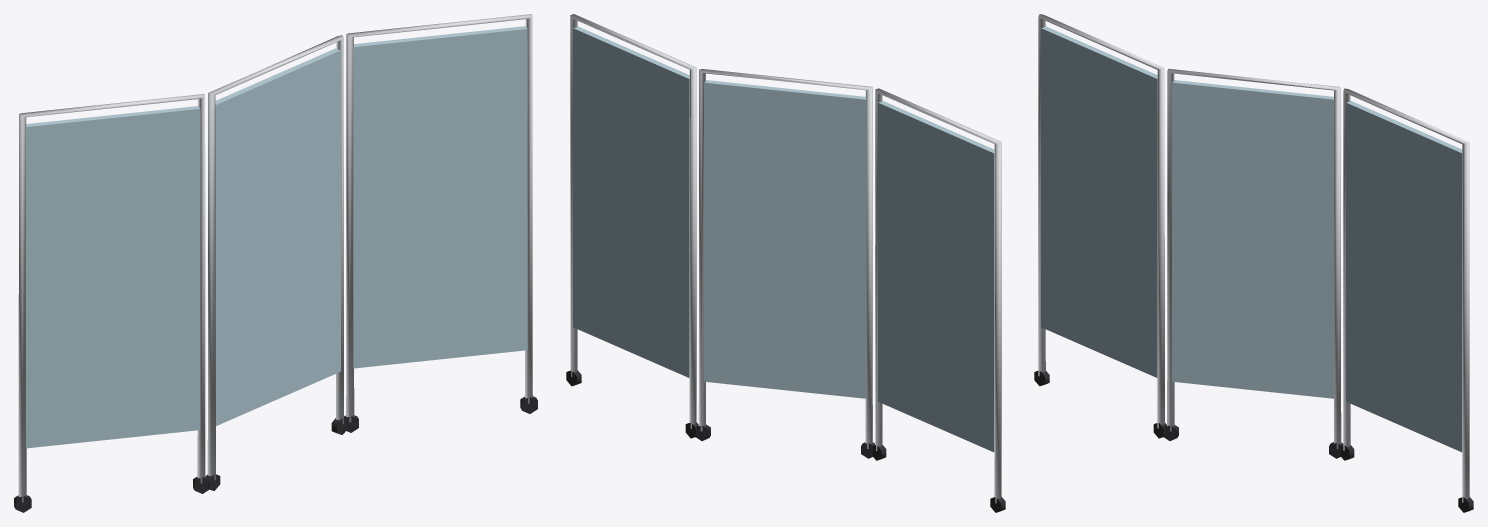
Rendered from hs_screen.glb.
The picture shows the model from 3 angles, left to right: view 1: azimuth 30°, elevation 25°; view 2: azimuth 150°, elevation 25°; view 3: azimuth 330°, elevation 25°; orthographic projection. The views are drawn at different scales.
Parts seen in each view (by area): view 1: hs_screen; view 2: hs_screen; view 3: hs_screen.
Part boxes in pixels (x1=…): hs_screen: x1=14, y1=14, x2=537, y2=512; hs_screen: x1=566, y1=14, x2=1005, y2=512; hs_screen: x1=1034, y1=14, x2=1473, y2=512.
Bounding box in the file's own units: 2.42 × 1.86 × 0.2629.
